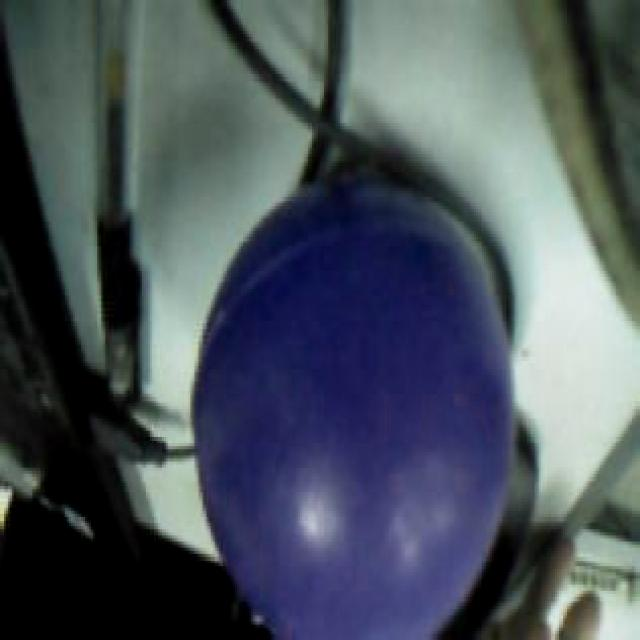BallPurple: (190, 175, 512, 640)
